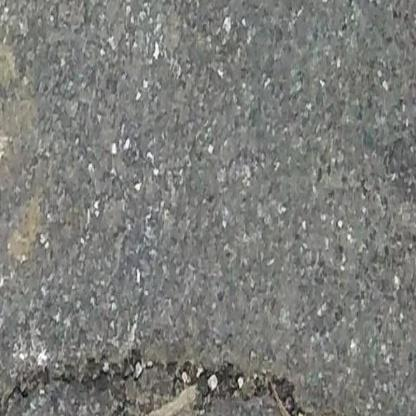Cracks: (0, 350, 366, 416)
